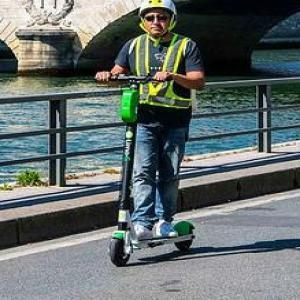with scooter: (95, 0, 204, 267)
